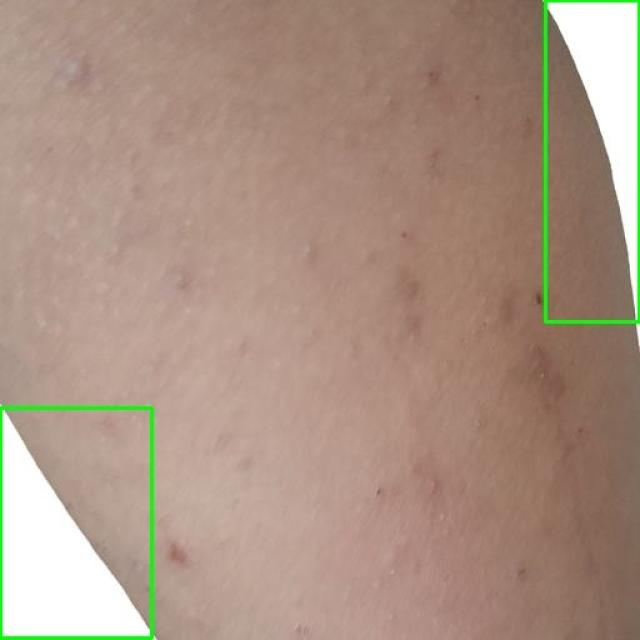Scabies: (0, 409, 152, 639), (545, 0, 639, 321)
